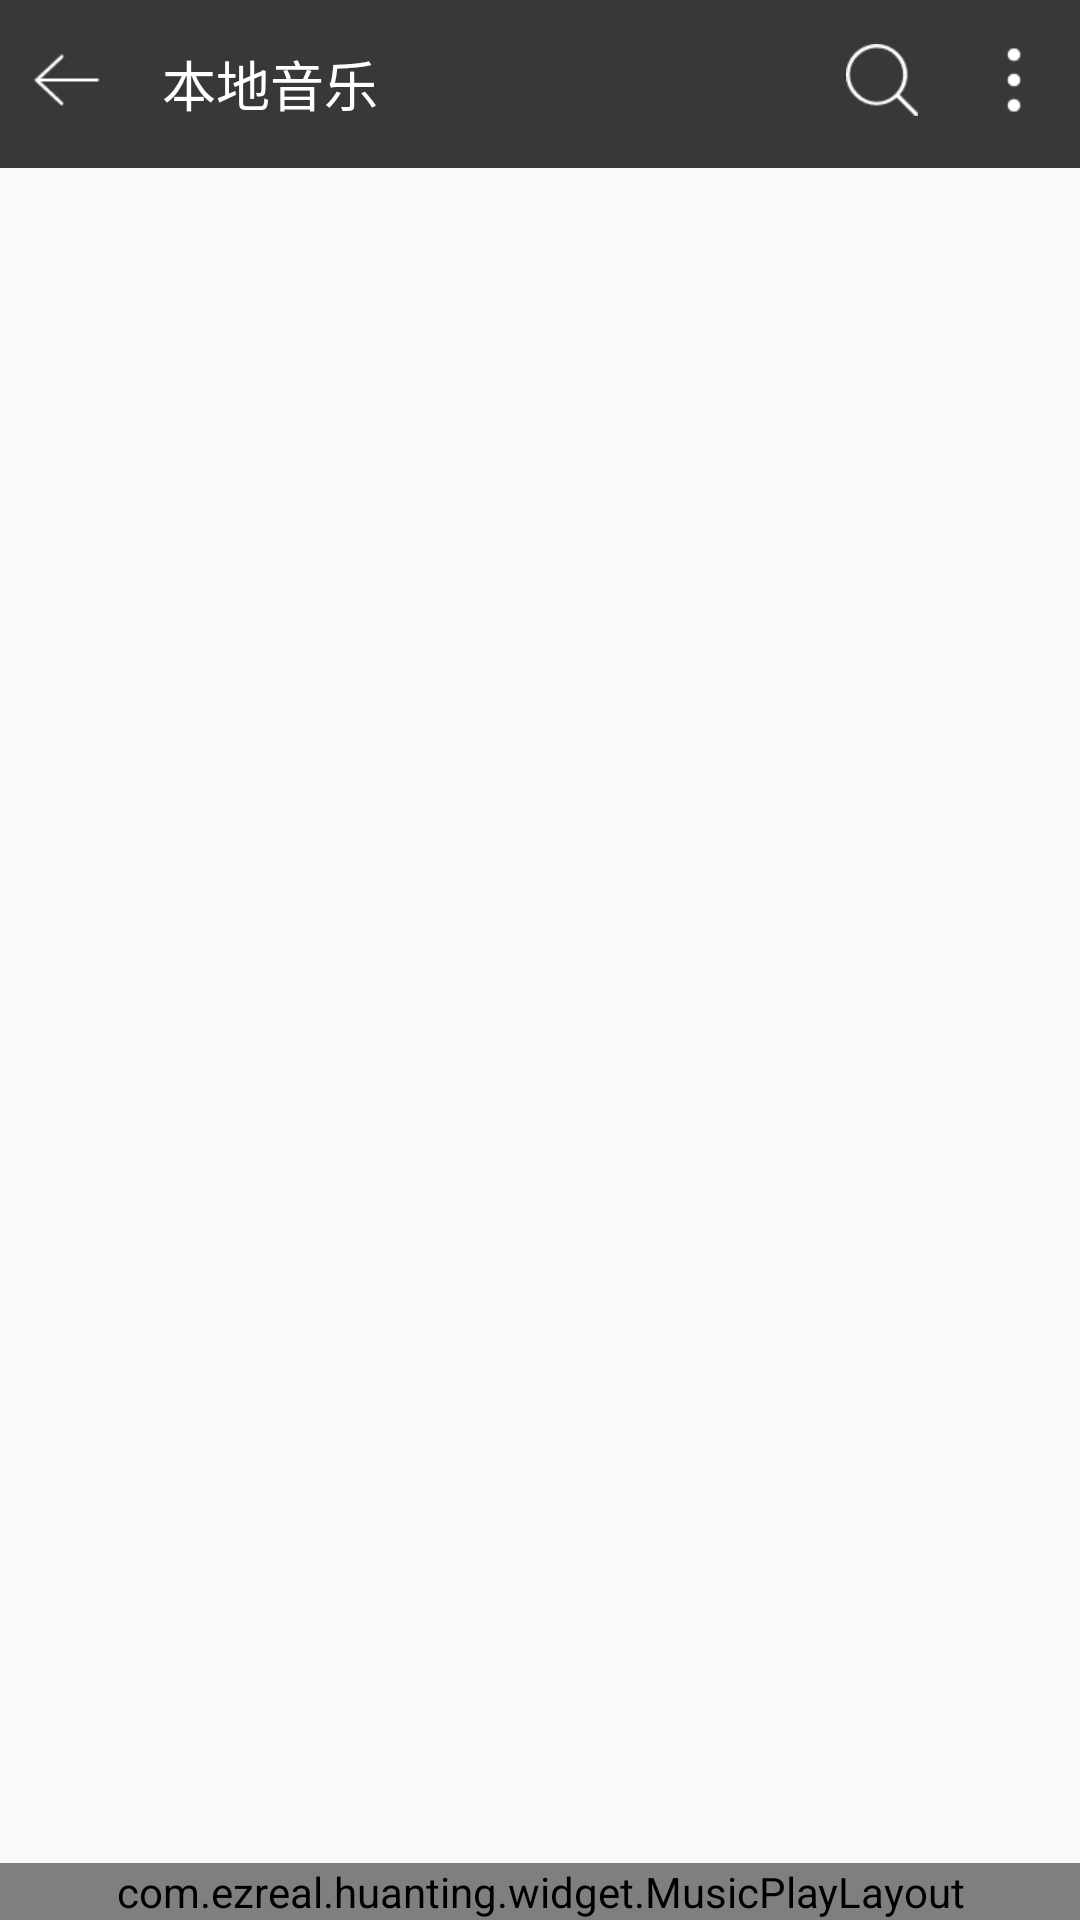

Screen size 1080x1920. Icon name, then its box in pixels as (x1, y1, x2, y2):
point: (1007, 48, 1021, 112)
search: (846, 44, 918, 116)
title back: (34, 54, 99, 106)
